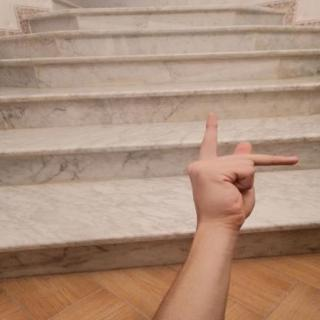DHAA: (180, 106, 305, 236)
